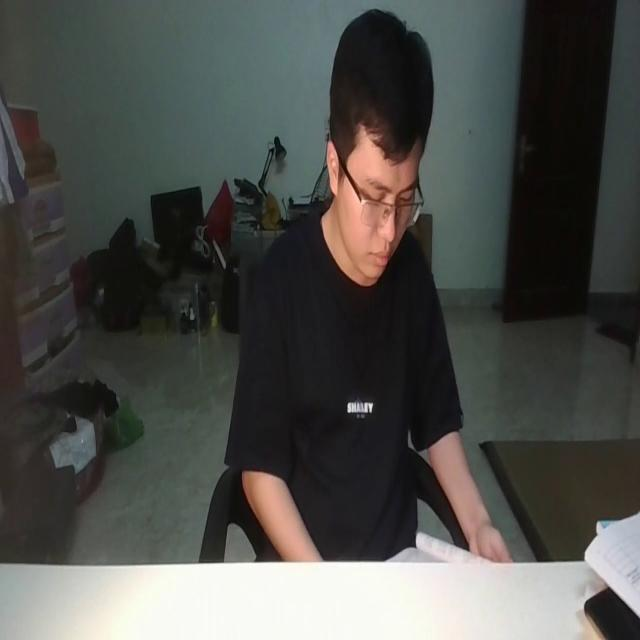book: (382, 529, 490, 565)
student: (226, 2, 513, 562)
